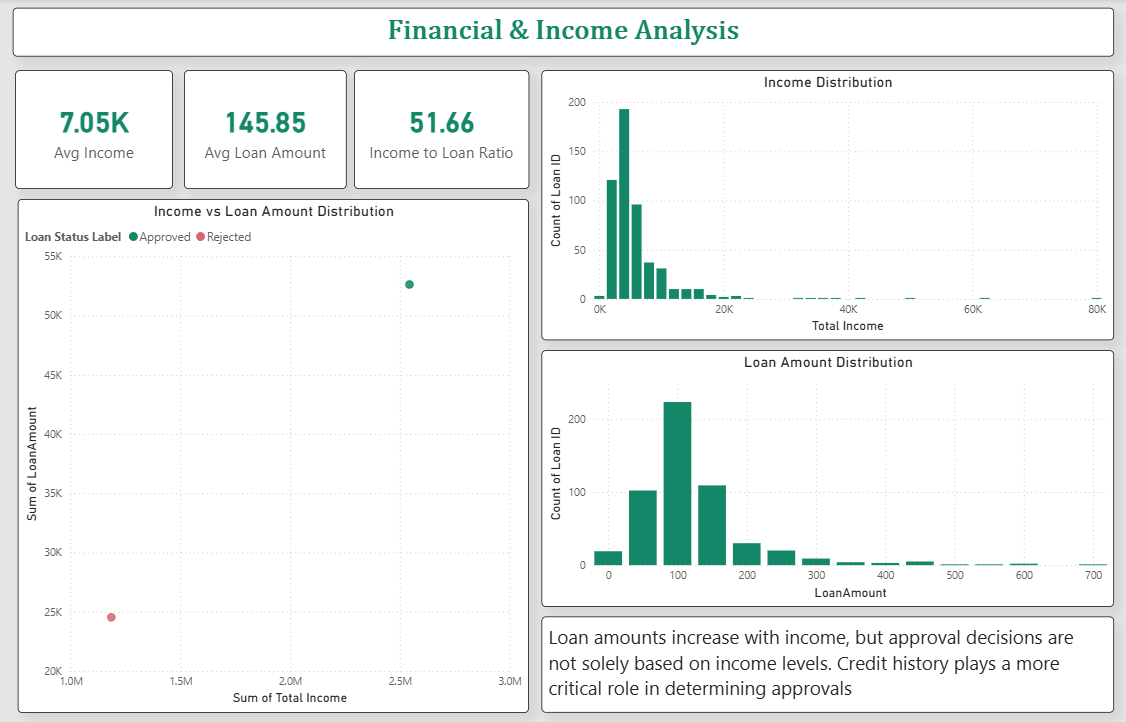

The page's visual inventory and layout, read from the dashboard file:
{"tool":"powerbi","page":{"name":"Financial & Income Analysis","canvas":[1280,820],"ordinal":2},"visuals":[{"type":"card","fields":{"Values":["loan_clean.Avg Income"]},"box":[18.4,80.6,165.5,134.4],"z":0},{"type":"textbox","box":[15.6,9.9,1246.3,55.2],"z":1000},{"type":"card","fields":{"Values":["loan_clean.Avg Loan Amount"]},"box":[198.1,80.6,165.5,134.4],"z":2000},{"type":"card","fields":{"Values":["loan_clean.Income to Loan Ratio"]},"box":[374.9,80.6,191,134.4],"z":3000},{"type":"scatterChart","title":"Income vs Loan Amount Distribution","fields":{"X":["Sum(loan_clean.Total_Income)"],"Y":["Sum(loan_clean.LoanAmount)"],"Series":["loan_clean.Loan_Status_Label"]},"box":[575.8,80.6,686.1,423],"z":3001},{"type":"clusteredColumnChart","title":"Income Distribution","fields":{"Y":["CountNonNull(loan_clean.Loan_ID)"],"Category":["loan_clean.Total_Income (bins)"]},"box":[15.6,227.8,550.3,244.7],"z":3002},{"type":"clusteredColumnChart","title":"Loan Amount Distribution","fields":{"Y":["CountNonNull(loan_clean.Loan_ID)"],"Category":["loan_clean.LoanAmount (bins)"]},"box":[15.6,483.8,546.1,224.9],"z":3003}]}

Visuals, with their boxes in screenshot pixels (x1, y1, x2, y2), scaled from the page's 1280x820 canvas onto the 1126x722 screenshot:
card - loan_clean.Avg Income: [x1=16, y1=71, x2=162, y2=189]
textbox: [x1=14, y1=9, x2=1110, y2=57]
card - loan_clean.Avg Loan Amount: [x1=174, y1=71, x2=320, y2=189]
card - loan_clean.Income to Loan Ratio: [x1=330, y1=71, x2=498, y2=189]
"Income vs Loan Amount Distribution" scatterChart: [x1=507, y1=71, x2=1110, y2=443]
"Income Distribution" clusteredColumnChart: [x1=14, y1=201, x2=498, y2=416]
"Loan Amount Distribution" clusteredColumnChart: [x1=14, y1=426, x2=494, y2=624]
